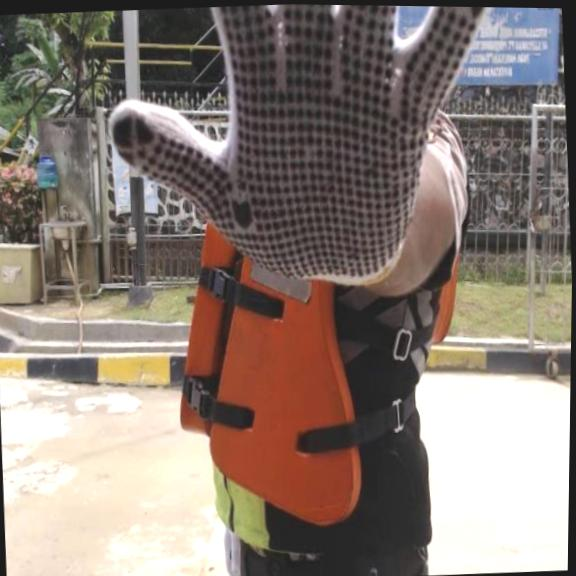safety_vest: (165, 209, 369, 534)
